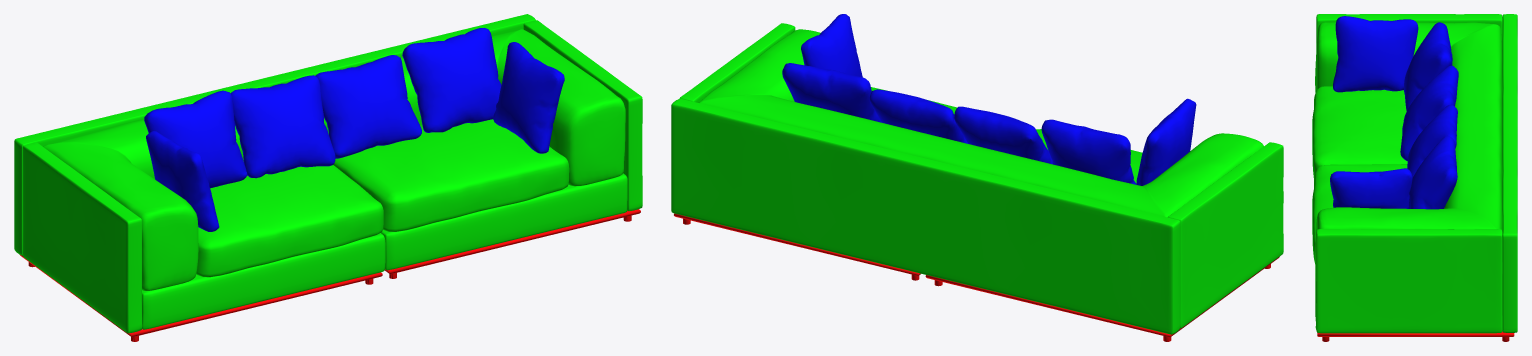
The model's file is Sofa_Single.fbx.
The picture shows the model from 3 angles, left to right: view 1: azimuth 30°, elevation 25°; view 2: azimuth 150°, elevation 25°; view 3: azimuth 270°, elevation 25°; orthographic projection. The views are drawn at different scales.
Visible parts, largest first — view 1: g eichholtz_sofa, g eichholtz_sofa.005, g eichholtz_sofa.003, g eichholtz_sofa.002, g eichholtz_sofa.004, g eichholtz_sofa.001; view 2: g eichholtz_sofa.003, g eichholtz_sofa, g eichholtz_sofa.002, g eichholtz_sofa.001, g eichholtz_sofa.005; view 3: g eichholtz_sofa.003, g eichholtz_sofa, g eichholtz_sofa.002, g eichholtz_sofa.005, g eichholtz_sofa.001.
Part boxes in pixels (x1,y1,x2,y2): g eichholtz_sofa: [144, 28, 564, 231]; g eichholtz_sofa.005: [196, 119, 569, 277]; g eichholtz_sofa.003: [14, 14, 642, 333]; g eichholtz_sofa.002: [43, 29, 625, 290]; g eichholtz_sofa.004: [142, 173, 627, 329]; g eichholtz_sofa.001: [20, 209, 640, 341]; g eichholtz_sofa.003: [671, 23, 1283, 334]; g eichholtz_sofa: [782, 14, 1196, 185]; g eichholtz_sofa.002: [699, 29, 1263, 217]; g eichholtz_sofa.001: [674, 213, 1279, 341]; g eichholtz_sofa.005: [871, 87, 1142, 183]; g eichholtz_sofa.003: [1315, 14, 1517, 333]; g eichholtz_sofa: [1330, 16, 1458, 209]; g eichholtz_sofa.002: [1315, 22, 1502, 280]; g eichholtz_sofa.005: [1312, 86, 1407, 262]; g eichholtz_sofa.001: [1317, 331, 1514, 341].
Bounding box in the file's own units: 200 × 60.17 × 78.37.
